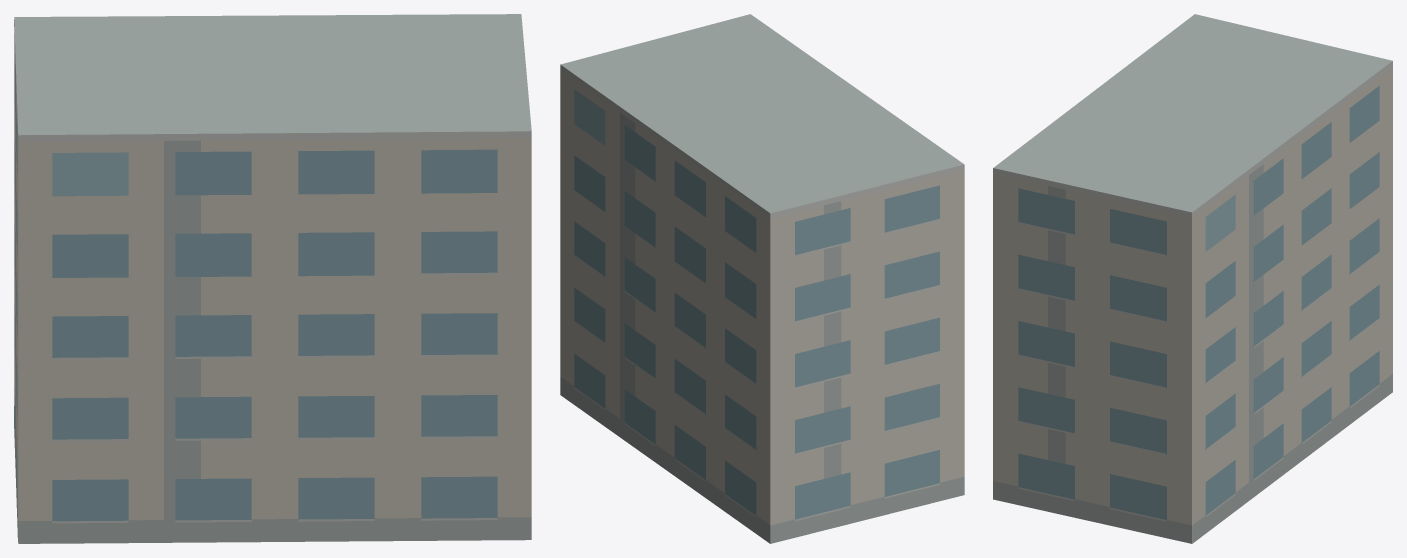
Rendered from survey-upis-32996072.glb.
The picture shows the model from 3 angles, left to right: view 1: azimuth 30°, elevation 25°; view 2: azimuth 150°, elevation 25°; view 3: azimuth 270°, elevation 25°; orthographic projection. The views are drawn at different scales.
Visible parts, largest first — view 1: survey-upis-32996072.tmp; view 2: survey-upis-32996072.tmp; view 3: survey-upis-32996072.tmp.
Boxes of the visible parts, x1,y1,x2,y2 form: survey-upis-32996072.tmp: [14, 14, 531, 543]; survey-upis-32996072.tmp: [560, 14, 964, 543]; survey-upis-32996072.tmp: [993, 14, 1392, 543].
Size of the model in its own units: 18.76 by 14.6 by 15.97.
